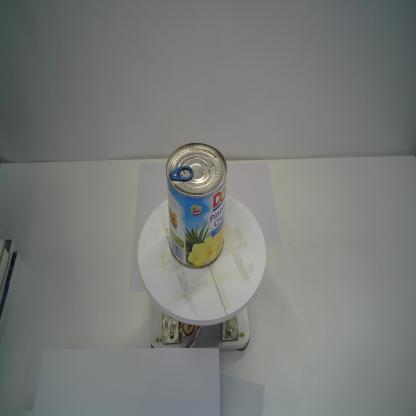Canned Food: (165, 142, 228, 270)
